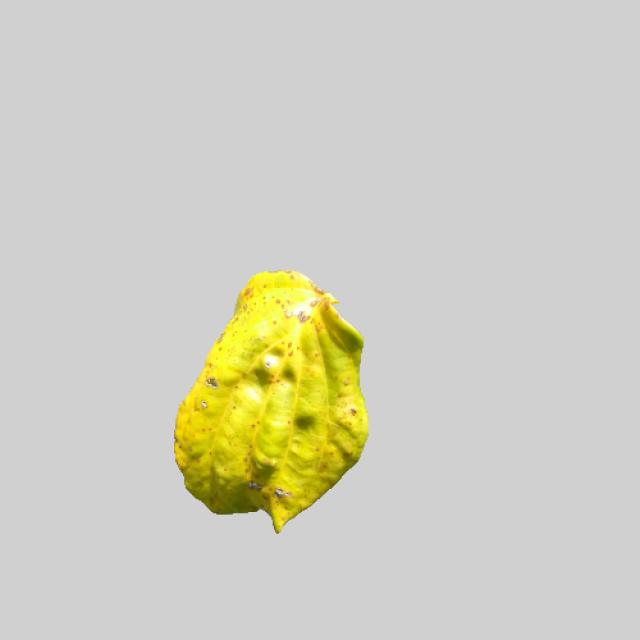yellow-mottle-virus: (164, 267, 368, 528)
